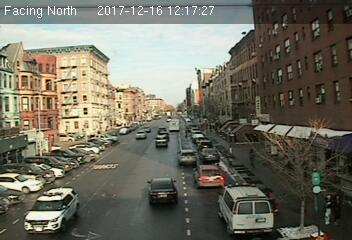car: (146, 177, 179, 203), (193, 163, 224, 188), (177, 149, 197, 167), (199, 147, 220, 162), (156, 135, 169, 148)
pedestrian: (323, 188, 334, 229)
police: (216, 181, 275, 236), (23, 186, 82, 235)
